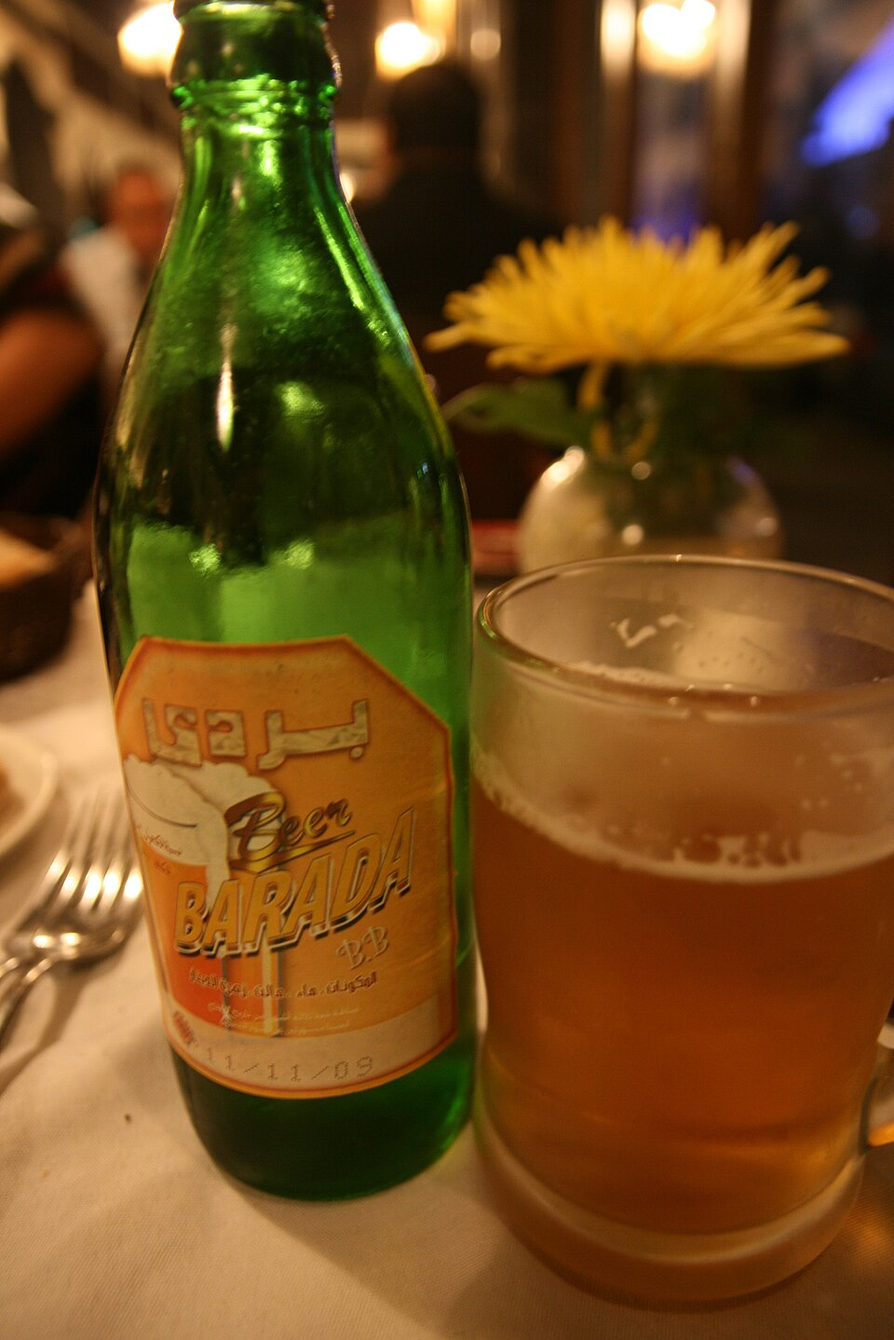beer-bottle: (89, 0, 487, 1221)
